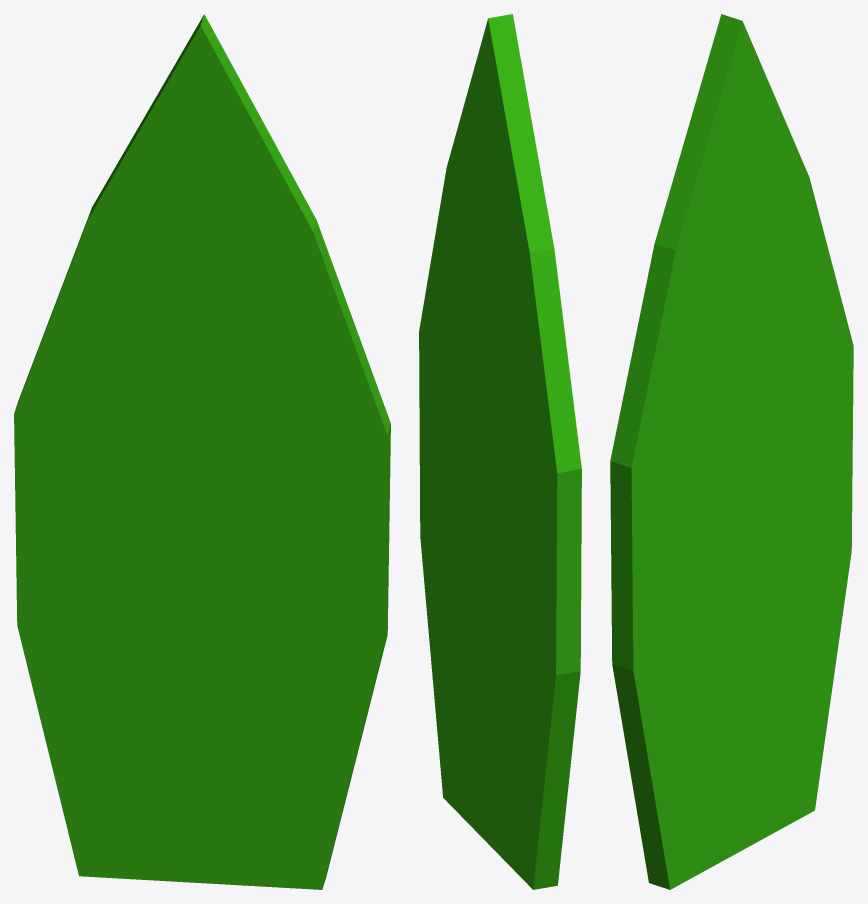
Rendered from Rigged Grass Export 71.fbx.
3 renders of one model, left to right at view 1: azimuth 30°, elevation 25°; view 2: azimuth 150°, elevation 25°; view 3: azimuth 270°, elevation 25°, orthographic. The views are drawn at different scales.
Parts seen in each view (by area): view 1: Grass 4 Left Right 3; view 2: Grass 4 Left Right 3; view 3: Grass 4 Left Right 3.
Part boxes in pixels (x1,y1,x2,y2): Grass 4 Left Right 3: (14,14,390,889); Grass 4 Left Right 3: (419,14,581,889); Grass 4 Left Right 3: (610,14,853,889).
Bounding box in the file's own units: 110 × 331 × 88.15.
